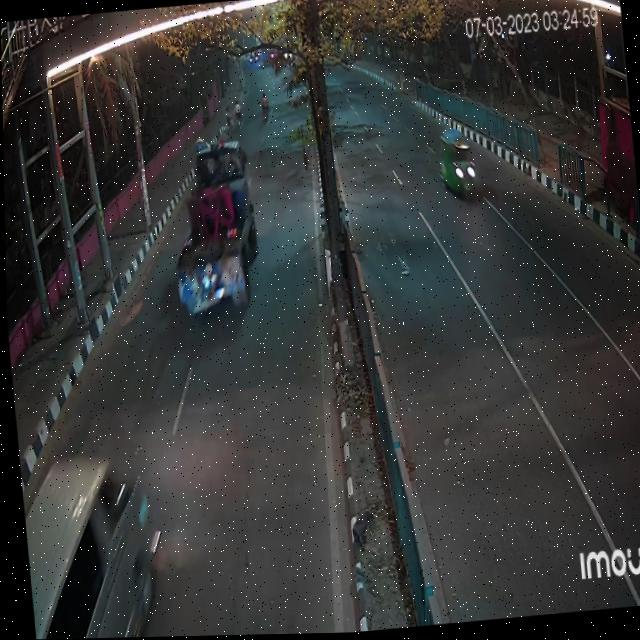cng: (434, 123, 481, 209)
